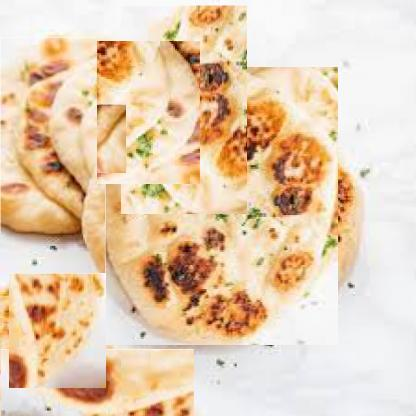naan: (94, 79, 350, 334), (101, 26, 268, 194), (48, 40, 200, 184), (0, 37, 97, 234), (0, 349, 194, 416), (0, 82, 104, 195), (4, 278, 111, 384)
